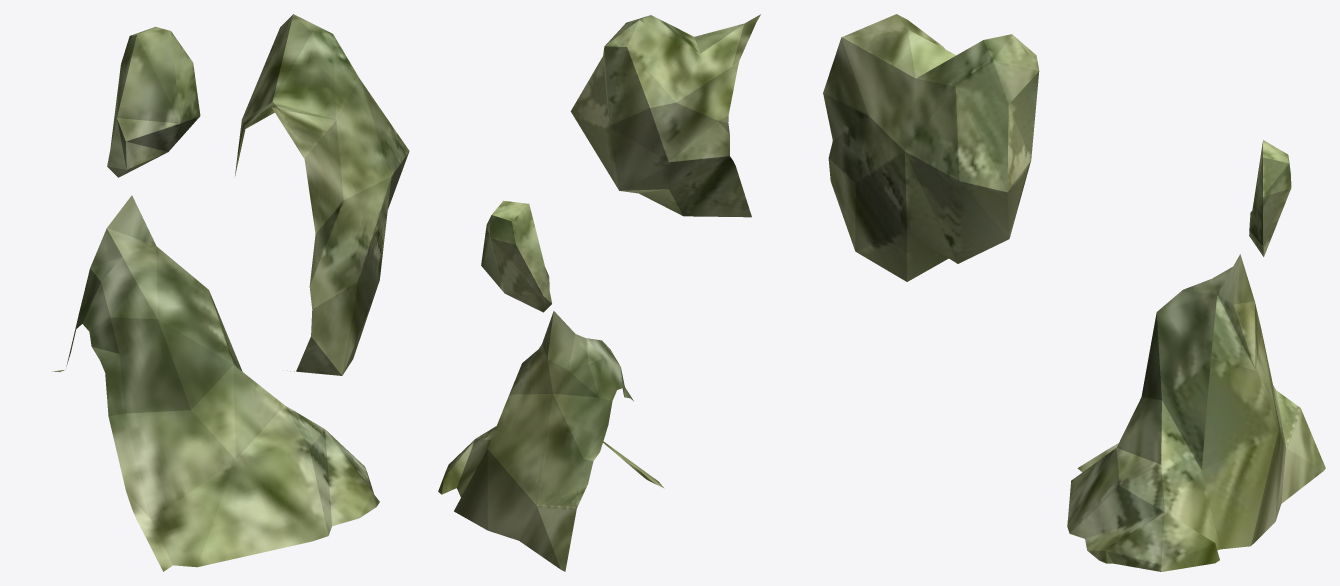
The picture shows the model from 3 angles, left to right: view 1: azimuth 30°, elevation 25°; view 2: azimuth 150°, elevation 25°; view 3: azimuth 270°, elevation 25°; orthographic projection. The views are drawn at different scales.
Size of the model in its own units: 0.7325 by 1.55 by 1.5.
Materials: 1 (1 with a texture image).
